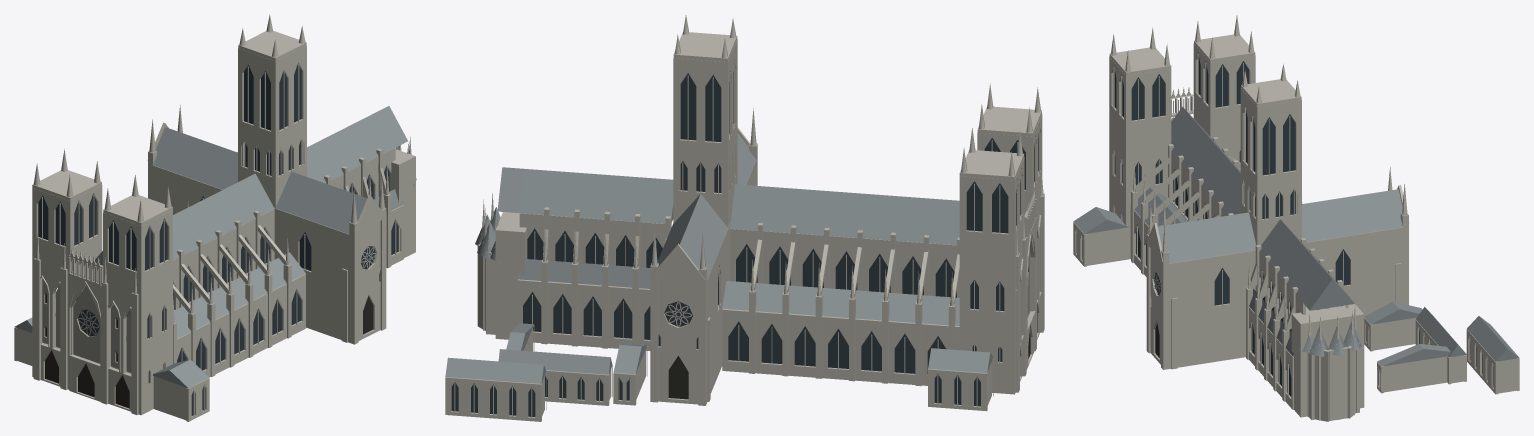
File: washington-national-cathedral-far.glb
3 views of the same model, side by side, from view 1: azimuth 30°, elevation 25°; view 2: azimuth 150°, elevation 25°; view 3: azimuth 270°, elevation 25° (orthographic). The views are drawn at different scales.
Visible parts, largest first — view 1: washington-national-cathedral-0-stone, washington-national-cathedral-0-roof, washington-national-cathedral-0-glass, washington-national-cathedral-0-archshade, washington-national-cathedral-0-recess; view 2: washington-national-cathedral-0-stone, washington-national-cathedral-0-roof, washington-national-cathedral-0-glass, washington-national-cathedral-0-recess; view 3: washington-national-cathedral-0-stone, washington-national-cathedral-0-roof, washington-national-cathedral-0-glass.
Boxes of the visible parts, x1=… form: washington-national-cathedral-0-stone: x1=14, y1=14, x2=415, y2=421; washington-national-cathedral-0-roof: x1=14, y1=106, x2=416, y2=388; washington-national-cathedral-0-glass: x1=38, y1=63, x2=398, y2=415; washington-national-cathedral-0-archshade: x1=42, y1=279, x2=131, y2=372; washington-national-cathedral-0-recess: x1=45, y1=293, x2=373, y2=408; washington-national-cathedral-0-stone: x1=445, y1=15, x2=1044, y2=421; washington-national-cathedral-0-roof: x1=445, y1=133, x2=1017, y2=383; washington-national-cathedral-0-glass: x1=451, y1=72, x2=1038, y2=416; washington-national-cathedral-0-recess: x1=668, y1=312, x2=1037, y2=399; washington-national-cathedral-0-stone: x1=1073, y1=15, x2=1519, y2=421; washington-national-cathedral-0-roof: x1=1073, y1=61, x2=1519, y2=366; washington-national-cathedral-0-glass: x1=1076, y1=55, x2=1493, y2=396.
Bounding box in the file's own units: 149 × 91.75 × 139.
